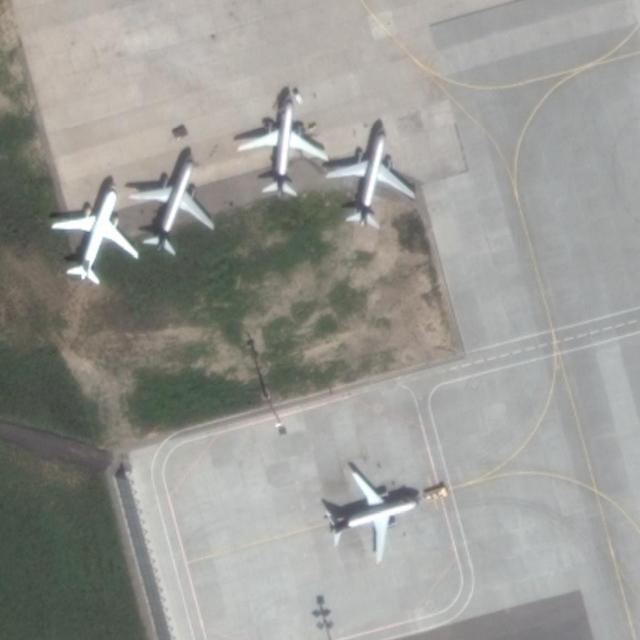plane: (127, 135, 226, 285), (44, 165, 149, 306), (319, 448, 423, 578), (321, 110, 421, 241), (234, 90, 329, 200)
